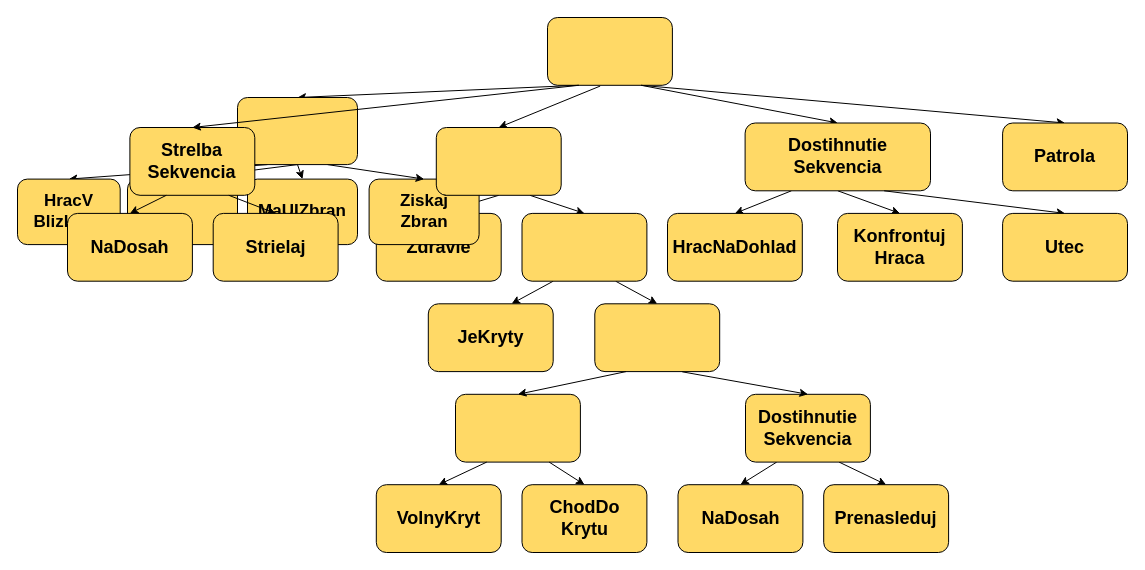
Some shapes in this 1145 by 570 pixel diagram are drawn without their labels. The shapes that lost their labels are listed below. From the top down, each one's centre as x and y in pixels, then its label:
At (x=609, y=50): "SelektorKoren".
At (x=297, y=130): "ChodDoKrytu Sekvencia".
At (x=498, y=160): "Krycia Sekvencia".
At (x=182, y=211): "MaHrac Zbran".
At (x=584, y=246): "SkusNajst Krytie Selektor".
At (x=657, y=337): "NajdiKryt Selektor".
At (x=517, y=427): "ChodDo Krytu Sekvencia".
